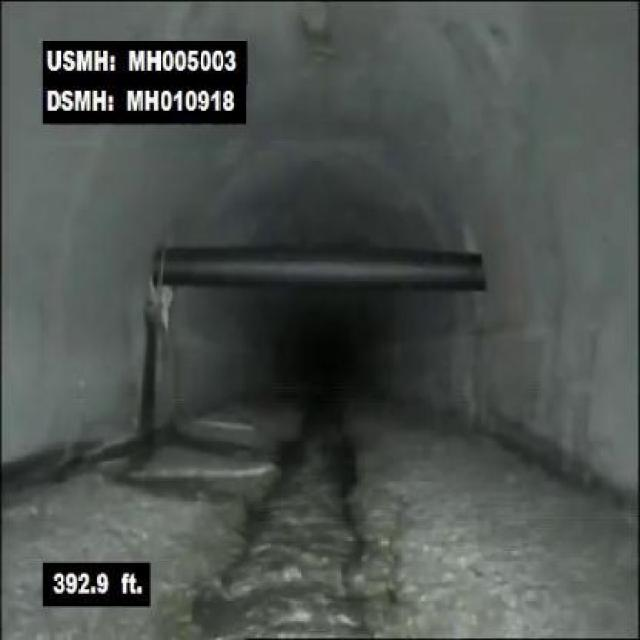Crack: (128, 460, 277, 491)
Utility intrusion: (146, 242, 494, 302)
